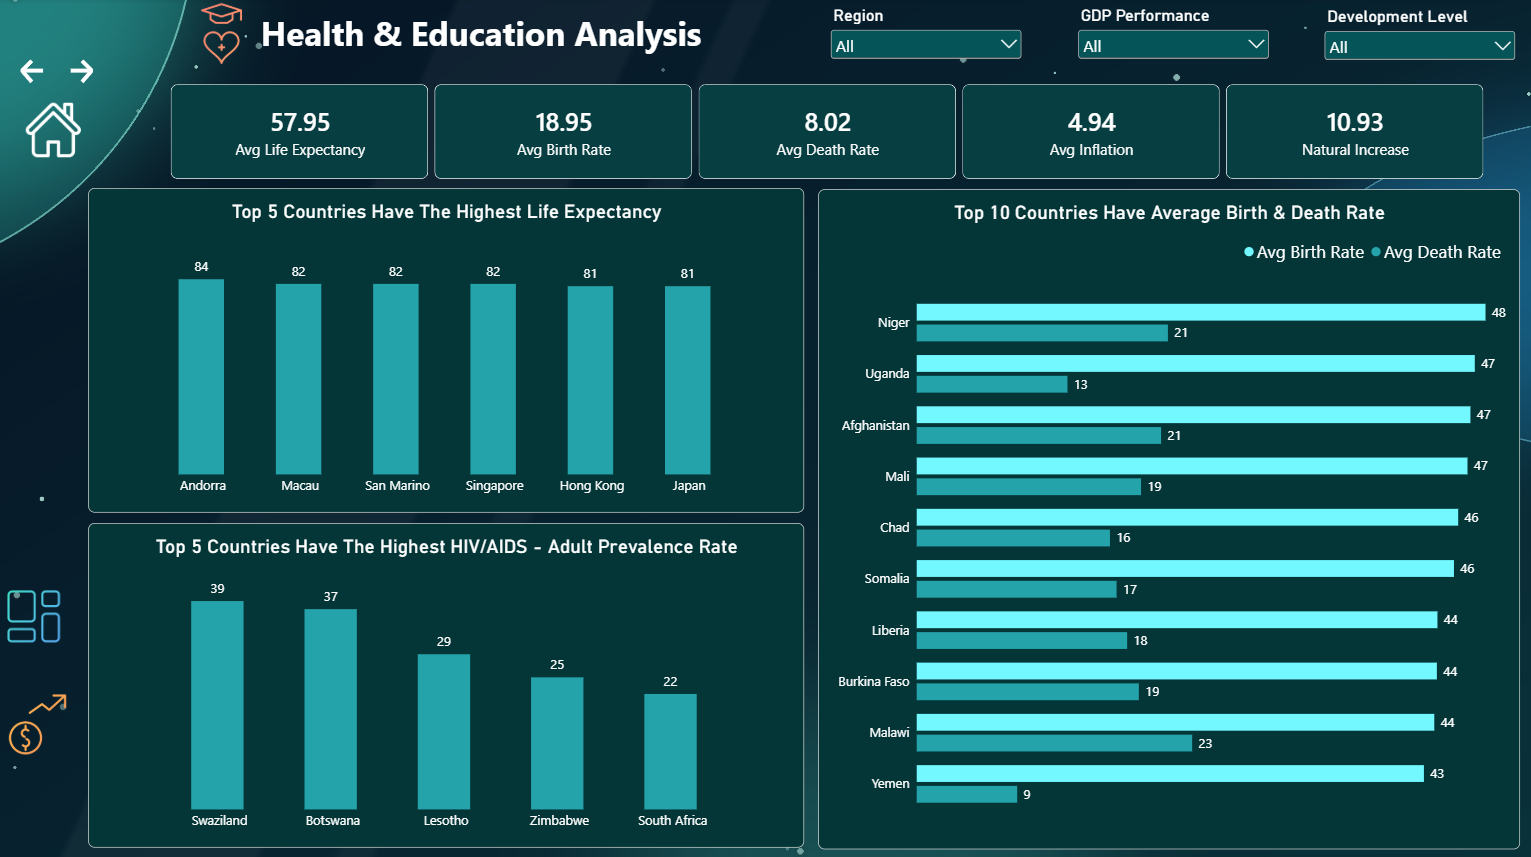

The dashboard page shown, as its layout file describes it:
{"tool":"powerbi","page":{"name":"Health & Education Analysis","canvas":[1920,1080],"ordinal":2},"visuals":[{"type":"image","box":[0,0,1920.4,1079.7],"z":0},{"type":"image","box":[7.2,700.6,75.6,142.3],"z":1000},{"type":"image","box":[8.6,851,85.5,109],"z":3000},{"type":"shape","box":[288.6,0,630.7,85.5],"z":4000},{"type":"slicer","fields":{"Values":["Dim_Country.Region"]},"box":[1035.2,9.5,247.7,76.7],"z":6000},{"type":"slicer","fields":{"Values":["Dim_Country.GDP Performance"]},"box":[1343,8.6,247.7,76.7],"z":7000},{"type":"slicer","fields":{"Values":["Dim_Country.Development Level"]},"box":[1650.9,10.4,247.7,76.7],"z":8000},{"type":"cardVisual","fields":{"Data":["-measures.Avg Life Expectancy","-measures.Avg Birth Rate","-measures.Avg Death Rate","-measures.Avg Inflation","-measures.Natural Increase"]},"box":[215.9,106.9,1637.2,118.9],"z":9000},{"type":"image","box":[36.2,111.6,68.4,104.5],"z":10000},{"type":"clusteredColumnChart","title":"Top 5 Countries Have The Highest Life Expectancy","fields":{"Category":["Dim_Country.Country"],"Y":["-measures.Avg Life Expectancy"]},"box":[113.8,236.9,893,405],"z":11000},{"type":"clusteredBarChart","title":"Top 10 Countries Have Average Birth & Death Rate","fields":{"Category":["Dim_Country.Country"],"Y":["-measures.Avg Birth Rate","-measures.Avg Death Rate"]},"box":[1024.8,237.7,875.3,823.1],"z":12000},{"type":"actionButton","box":[10.9,72,66.6,39.6],"z":14000},{"type":"actionButton","box":[73.6,71.9,63,39.6],"z":15000},{"type":"clusteredColumnChart","title":"Top 5 Countries Have The Highest HIV/AIDS - Adult Prevalence Rate","fields":{"Category":["Dim_Country.Country"],"Y":["Sum(Demographics_Health.HIV/AIDS - adult prevalence rate(%))"]},"box":[113.3,654.3,893,405],"z":15001},{"type":"image","box":[224.5,2.1,111.2,85.5],"z":15002}]}

Visuals, with their boxes on the page's 1920x1080 design canvas (x1, y1, x2, y2). These are canvas units, not pixel positions in the 1531x857 screenshot, which may show the page scaled, cropped or inside an application window:
image: 0,0,1920,1080
image: 7,701,83,843
image: 9,851,94,960
shape: 289,0,919,86
slicer - Dim_Country.Region: 1035,10,1283,86
slicer - Dim_Country.GDP Performance: 1343,9,1591,85
slicer - Dim_Country.Development Level: 1651,10,1899,87
cardVisual - -measures.Avg Life Expectancy x -measures.Avg Birth Rate: 216,107,1853,226
image: 36,112,105,216
"Top 5 Countries Have The Highest Life Expectancy" clusteredColumnChart: 114,237,1007,642
"Top 10 Countries Have Average Birth & Death Rate" clusteredBarChart: 1025,238,1900,1061
actionButton: 11,72,78,112
actionButton: 74,72,137,112
"Top 5 Countries Have The Highest HIV/AIDS - Adult Prevalence Rate" clusteredColumnChart: 113,654,1006,1059
image: 224,2,336,88
